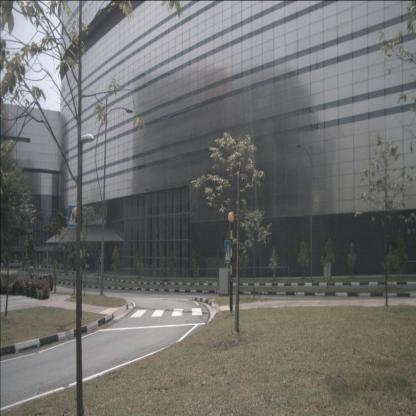vehicle-car: (38, 274, 53, 291), (8, 259, 24, 268), (85, 262, 97, 270)
